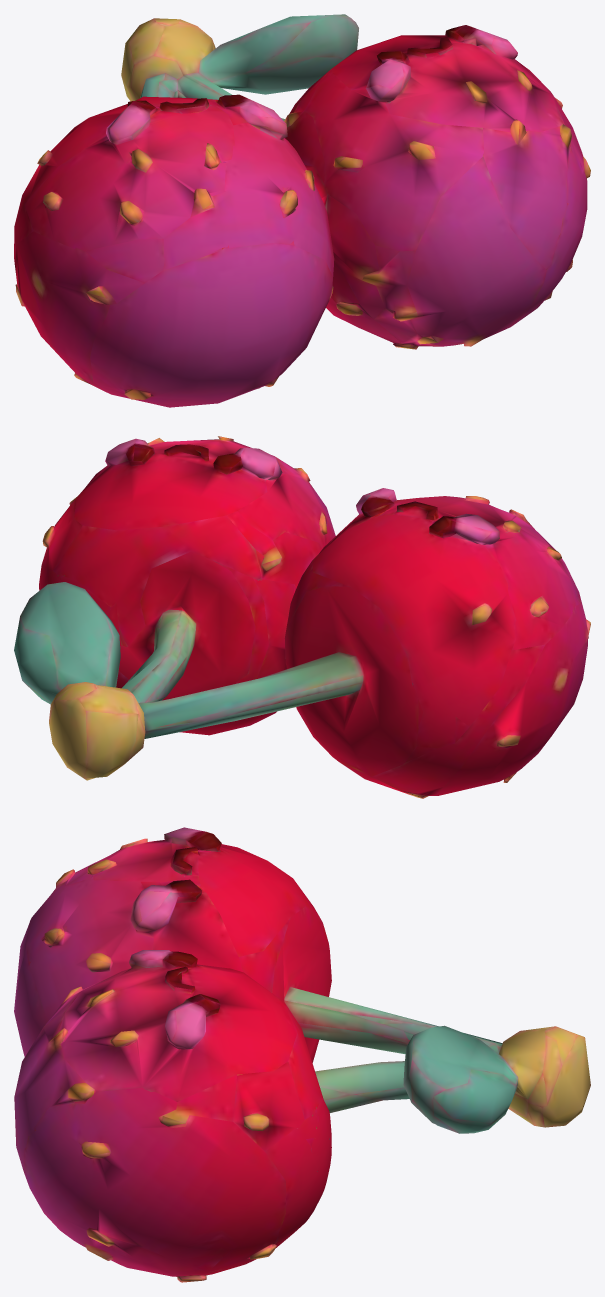
3 renders of one model, top to bottom at view 1: azimuth 30°, elevation 25°; view 2: azimuth 150°, elevation 25°; view 3: azimuth 270°, elevation 25°, orthographic. The views are drawn at different scales.
Visible parts, largest first — view 1: material; view 2: material; view 3: material.
Boxes of the visible parts, bbox=[...] form: material: bbox=[14, 14, 590, 407]; material: bbox=[14, 436, 590, 798]; material: bbox=[14, 827, 590, 1282].
Bounding box in the file's own units: 1 × 0.5255 × 0.9457.
1 material, 1 textured.
